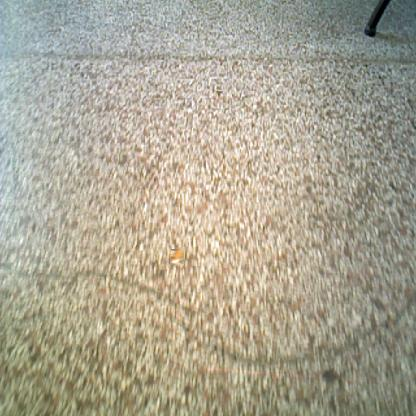dirty: (170, 249, 184, 265), (216, 90, 223, 99)
